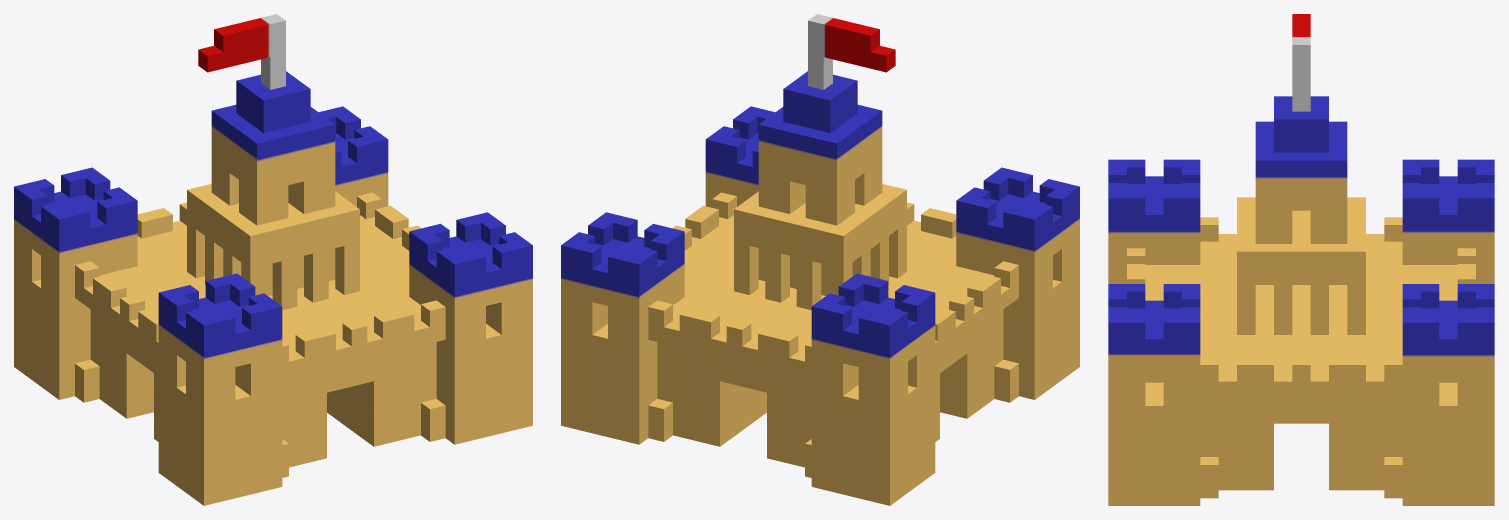
File: Castle.fbx
3 renders of one model, left to right at view 1: azimuth 30°, elevation 25°; view 2: azimuth 150°, elevation 25°; view 3: azimuth 270°, elevation 25°, orthographic.
Visible parts, largest first — view 1: Castle; view 2: Castle; view 3: Castle.
Boxes of the visible parts, x1,y1,x2,y2 form: Castle: (14,14,532,505); Castle: (561,14,1079,505); Castle: (1108,14,1494,505).
Bounding box in the file's own units: 525 × 575 × 525.
1 material, 1 textured.
